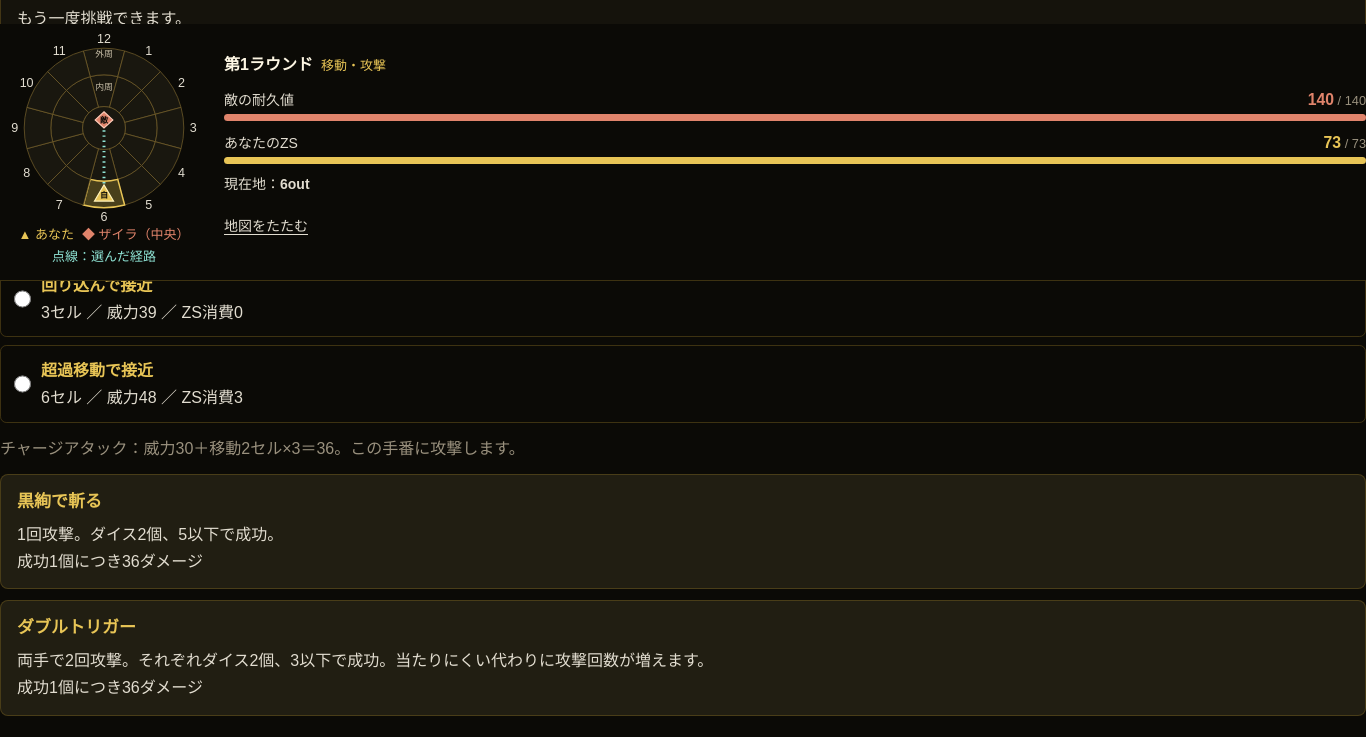
戦闘画面 › 経路を選ぶと威力と地図の予告が変わり、同じ手番で攻撃する
(page scrolled)
Click the radio button labelled "超過移動で接近 6セル ／ 威力48 ／ ZS消費3": coordinates (23, 384) [14, 375, 31, 393]
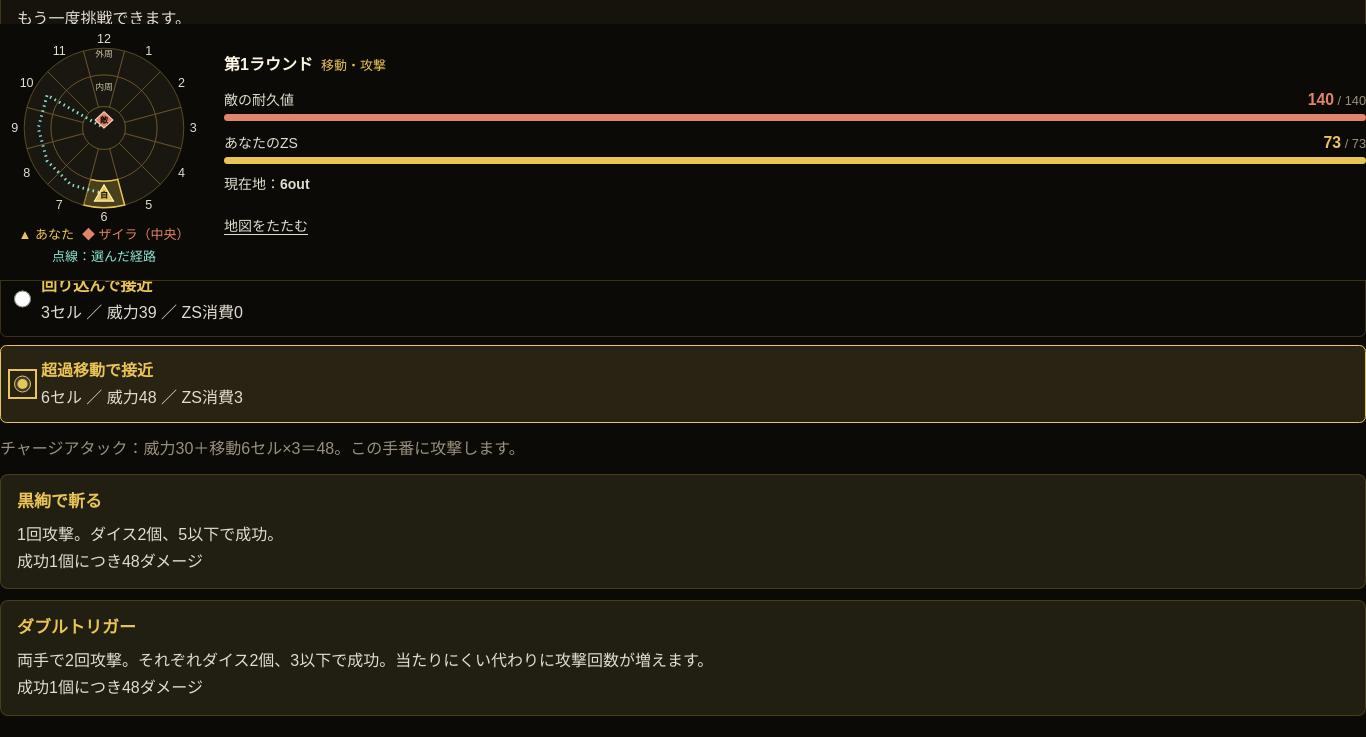
Expected: the picture named "選んだ経路：6out、7out、8out、9out、10out、10in、中央" is shown, [0, 32, 208, 224]
Click the button "黒絢で斬る 1回攻撃。ダイス2個、5以下で成功。 成功1個につき48ダメージ": coordinates (683, 532) [0, 474, 1365, 589]
(page scrolled)
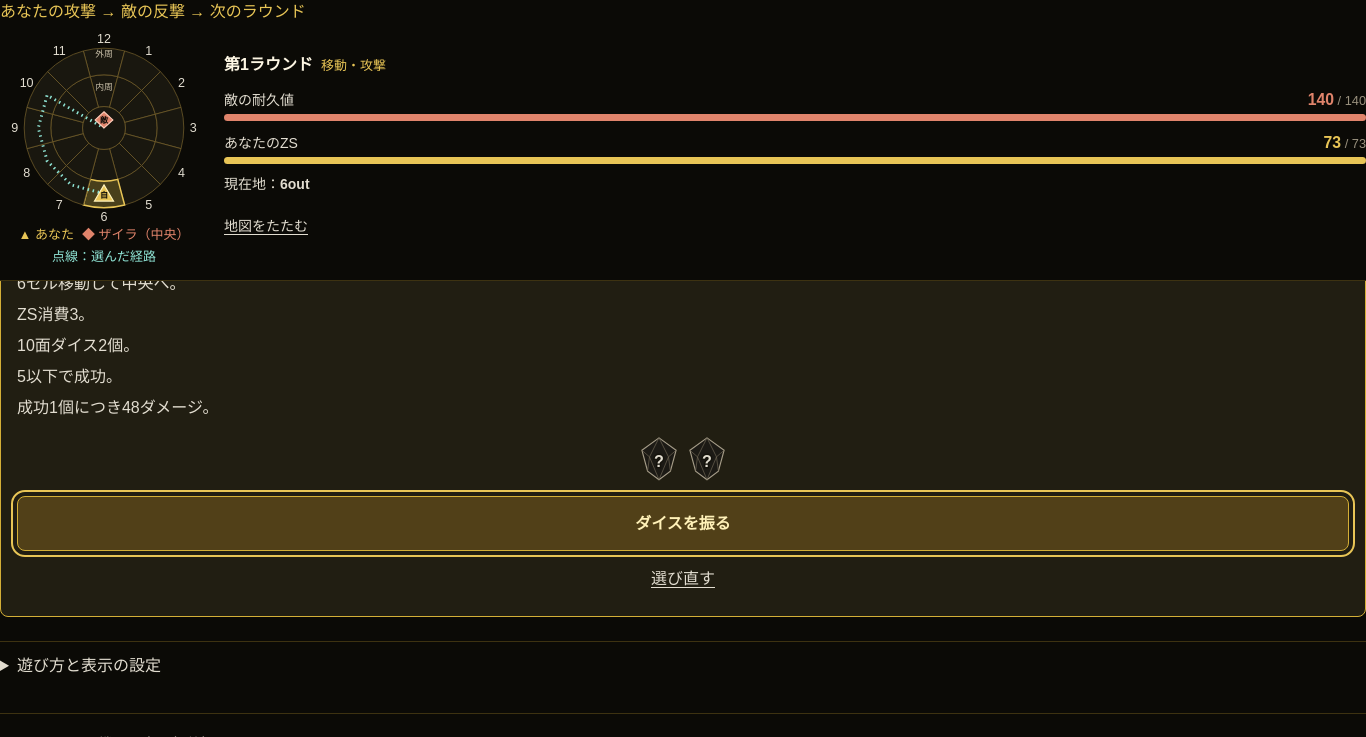
Click the button "ダイスを振る": coordinates (683, 523) [17, 496, 1349, 551]
(page scrolled)
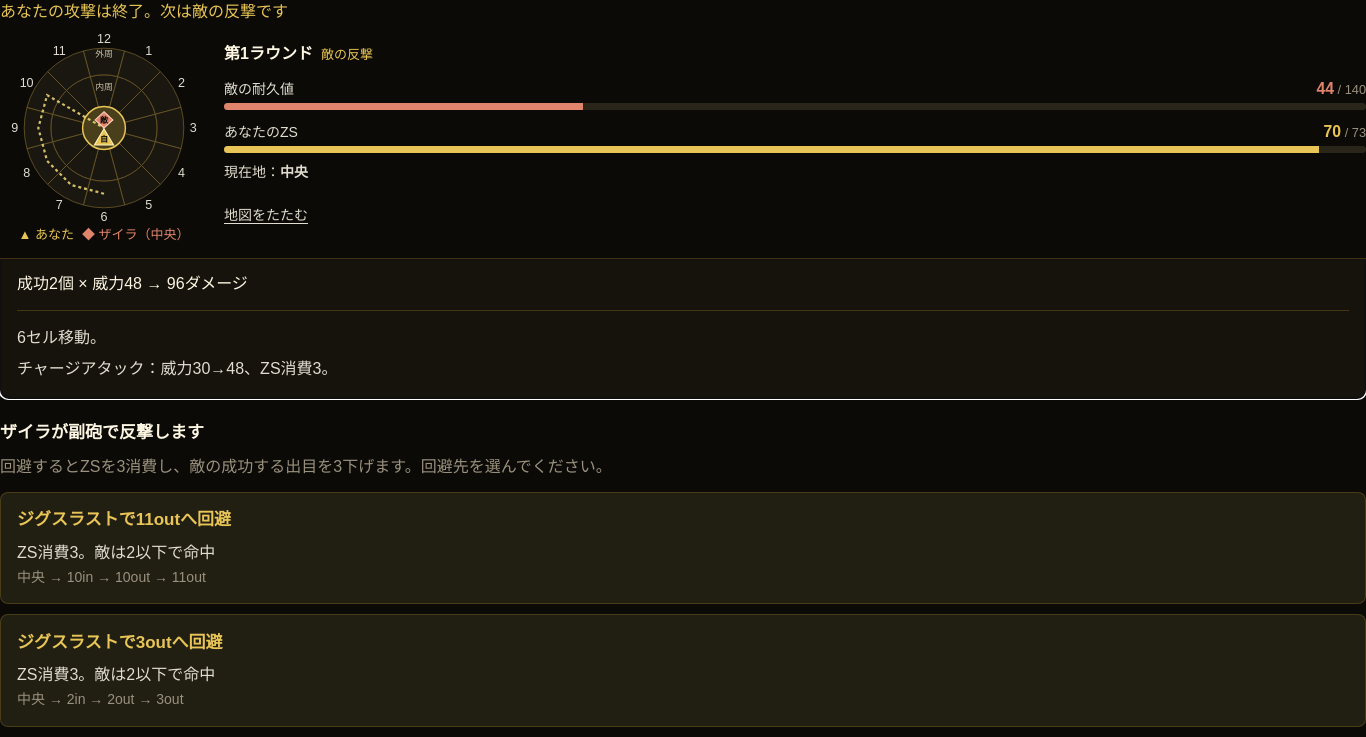
Expected: the text "ザイラに96ダメージ" is shown, [17, 125, 198, 147]
Expected: the button "ジグスラストで11outへ回避 ZS消費3。敵は2以下で命中 中央 → 10in → 10out → 11out" is shown, [0, 492, 1365, 604]
